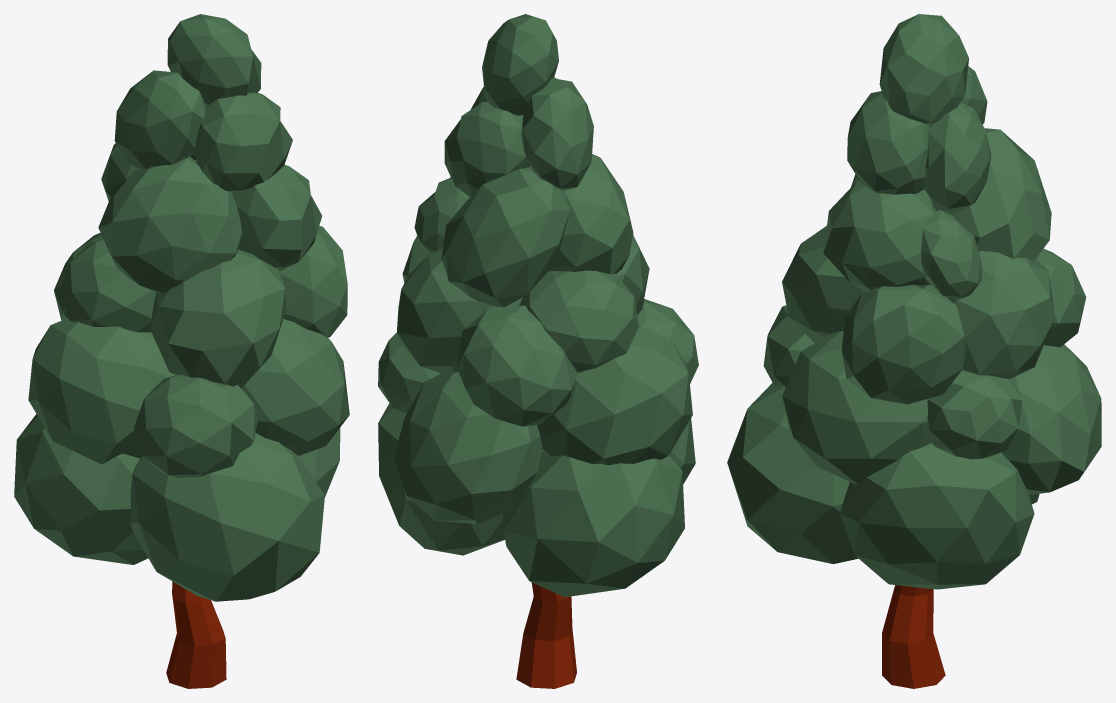
The model's file is Poplar_Folhas_Verde_Medio.fbx.
3 views of the same model, side by side, from view 1: azimuth 30°, elevation 25°; view 2: azimuth 150°, elevation 25°; view 3: azimuth 270°, elevation 25° (orthographic). The views are drawn at different scales.
Parts seen in each view (by area): view 1: Poplar_Folhas_Verde_Medio; view 2: Poplar_Folhas_Verde_Medio; view 3: Poplar_Folhas_Verde_Medio.
Boxes of the visible parts, box(x1,y1,x2,y2) form: Poplar_Folhas_Verde_Medio: box(14, 14, 349, 688); Poplar_Folhas_Verde_Medio: box(378, 14, 698, 688); Poplar_Folhas_Verde_Medio: box(727, 14, 1101, 688).
Bounding box in the file's own units: 269 × 582 × 296.
